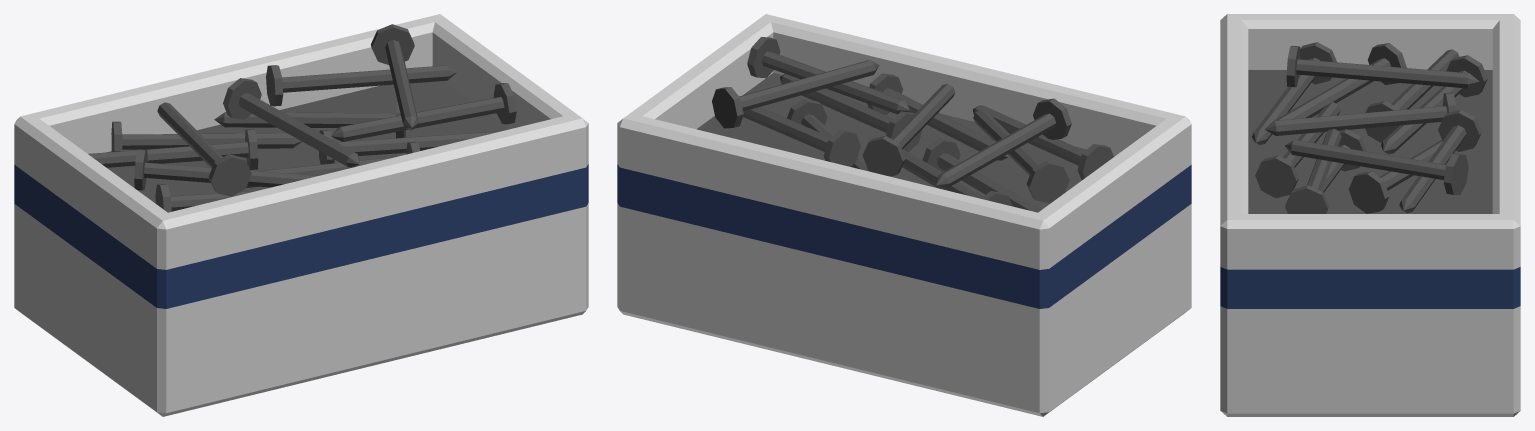
The model's file is Nails.glb.
3 views of the same model, side by side, from view 1: azimuth 30°, elevation 25°; view 2: azimuth 150°, elevation 25°; view 3: azimuth 270°, elevation 25° (orthographic).
Parts seen in each view (by area): view 1: Nails; view 2: Nails; view 3: Nails.
Boxes of the visible parts, box(x1,y1,x2,y2) form: Nails: box(14, 14, 588, 416); Nails: box(617, 14, 1191, 416); Nails: box(1220, 14, 1520, 416).
Bounding box in the file's own units: 0.0539 × 0.0267 × 0.0323.
